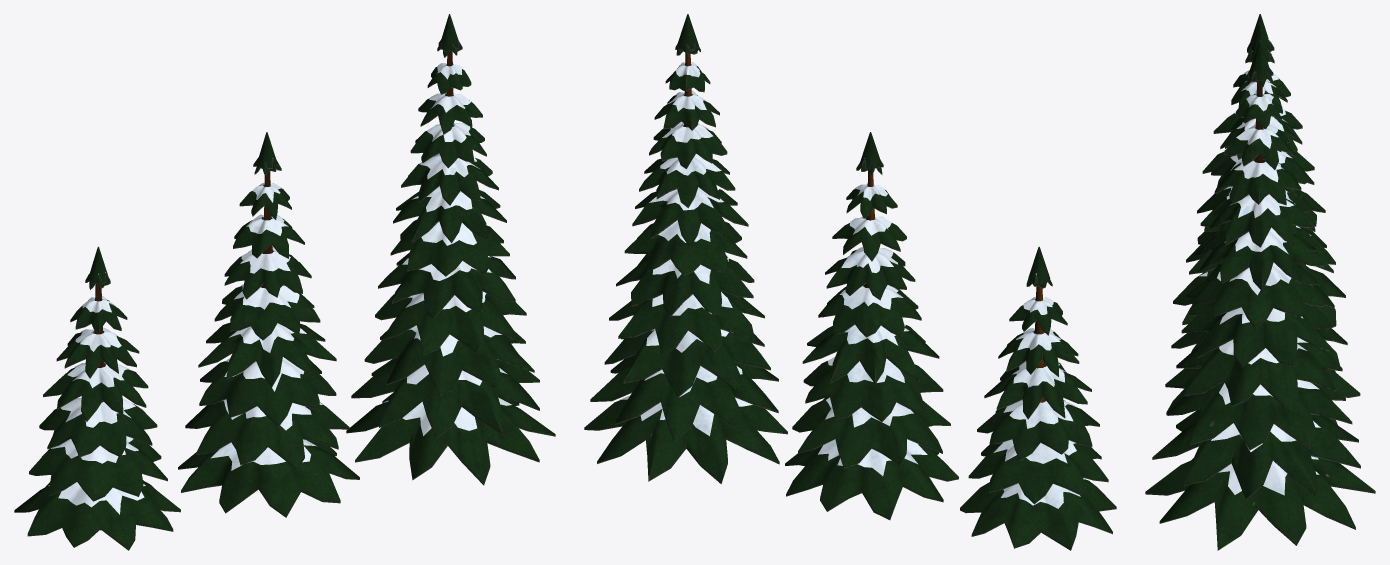
Rendered from PinoInnevato.fbx.
3 renders of one model, left to right at view 1: azimuth 30°, elevation 25°; view 2: azimuth 150°, elevation 25°; view 3: azimuth 270°, elevation 25°, orthographic. The views are drawn at different scales.
Parts seen in each view (by area): view 1: Pino3_Chioma, Pino2_Chioma, Pino1_Chioma, Pino3_Neve, Pino2_Neve, Pino1_Neve; view 2: Pino3_Chioma, Pino2_Chioma, Pino1_Chioma, Pino3_Neve, Pino2_Neve, Pino1_Neve; view 3: Pino3_Chioma, Pino2_Chioma, Pino3_Neve, Pino1_Chioma, Pino2_Neve.
Part boxes in pixels (left/top/right/bottom): Pino3_Chioma: left=346, top=14, right=555, bottom=485; Pino2_Chioma: left=178, top=132, right=359, bottom=517; Pino1_Chioma: left=14, top=246, right=180, bottom=550; Pino3_Neve: left=383, top=63, right=511, bottom=435; Pino2_Neve: left=211, top=158, right=322, bottom=470; Pino1_Neve: left=48, top=272, right=145, bottom=514; Pino3_Chioma: left=584, top=14, right=787, bottom=484; Pino2_Chioma: left=785, top=132, right=958, bottom=520; Pino1_Chioma: left=960, top=246, right=1116, bottom=550; Pino3_Neve: left=619, top=62, right=752, bottom=436; Pino2_Neve: left=818, top=158, right=927, bottom=475; Pino1_Neve: left=993, top=273, right=1085, bottom=508; Pino3_Chioma: left=1145, top=40, right=1375, bottom=550; Pino2_Chioma: left=1165, top=23, right=1360, bottom=424; Pino3_Neve: left=1211, top=93, right=1320, bottom=495; Pino1_Chioma: left=1173, top=14, right=1345, bottom=325; Pino2_Neve: left=1226, top=50, right=1295, bottom=204.
Bounding box in the file's own units: 1816 × 1460 × 655.
